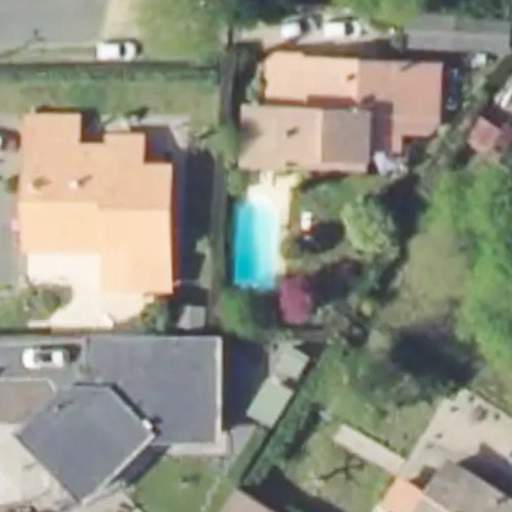pool: (228, 191, 285, 295)
